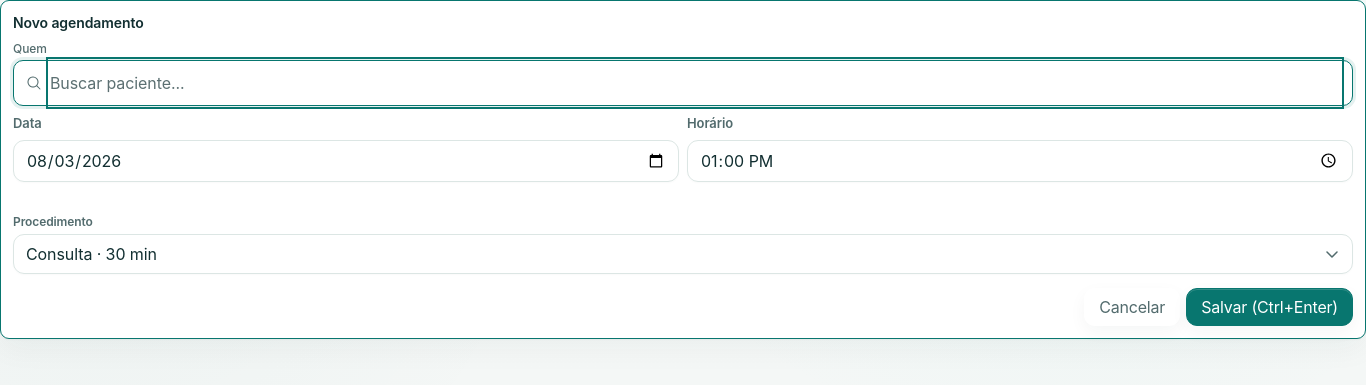
Test: CompositorInline › valida campos obrigatorios
This screenshot has width=1366, height=385.
Limpa os campos de data e horario para forcar erro
Clear the date field labelled "Data" at (346, 160), box [26,140,666,180]
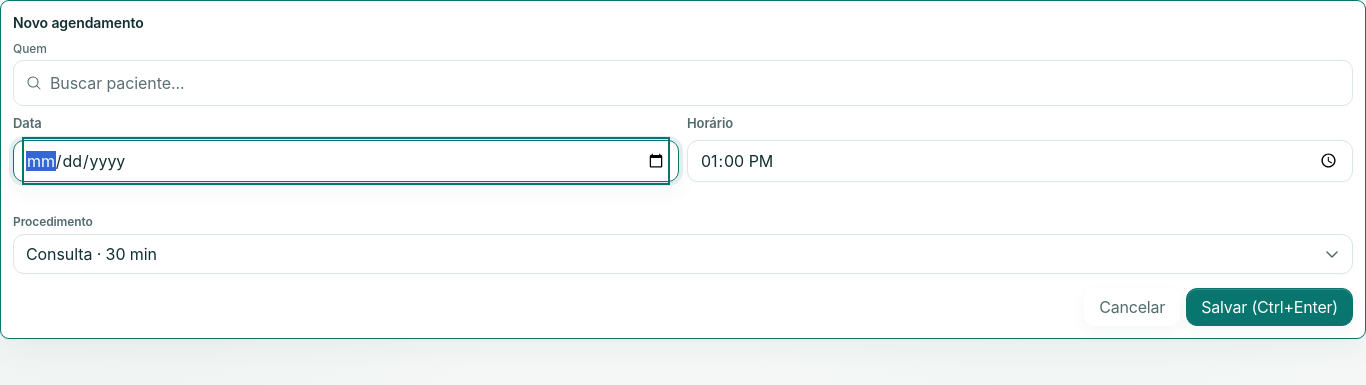
Clear the time field labelled "Horário" at (1020, 160), box [700,140,1340,180]
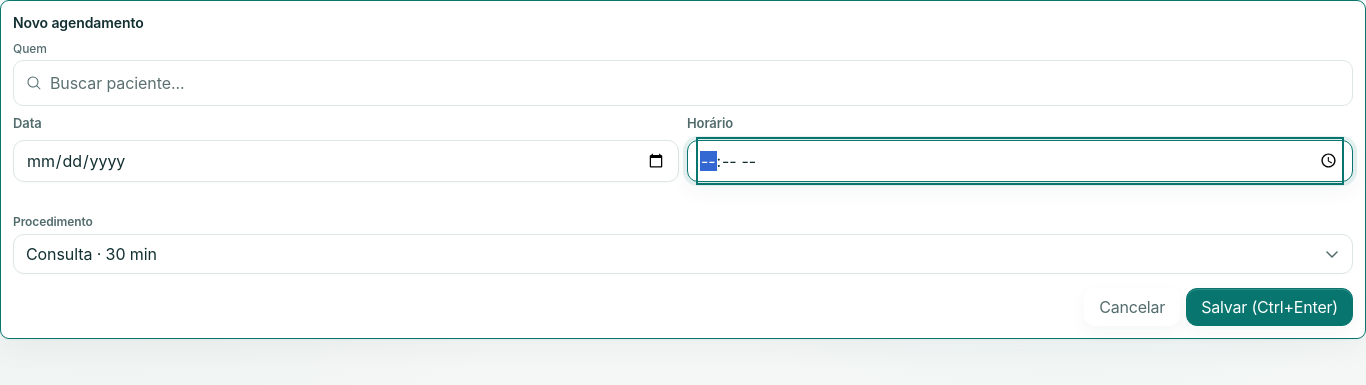
Tenta submeter sem paciente
Click the button "Salvar (Ctrl+Enter)" at (1270, 306), box [1186,288,1353,326]
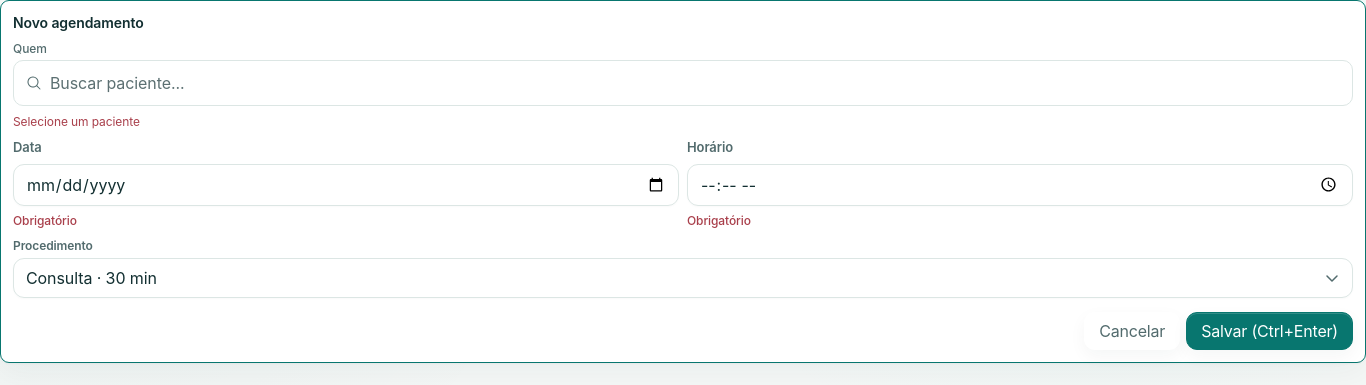
Result: the text "Selecione um paciente" is shown at [13,114,140,129]
